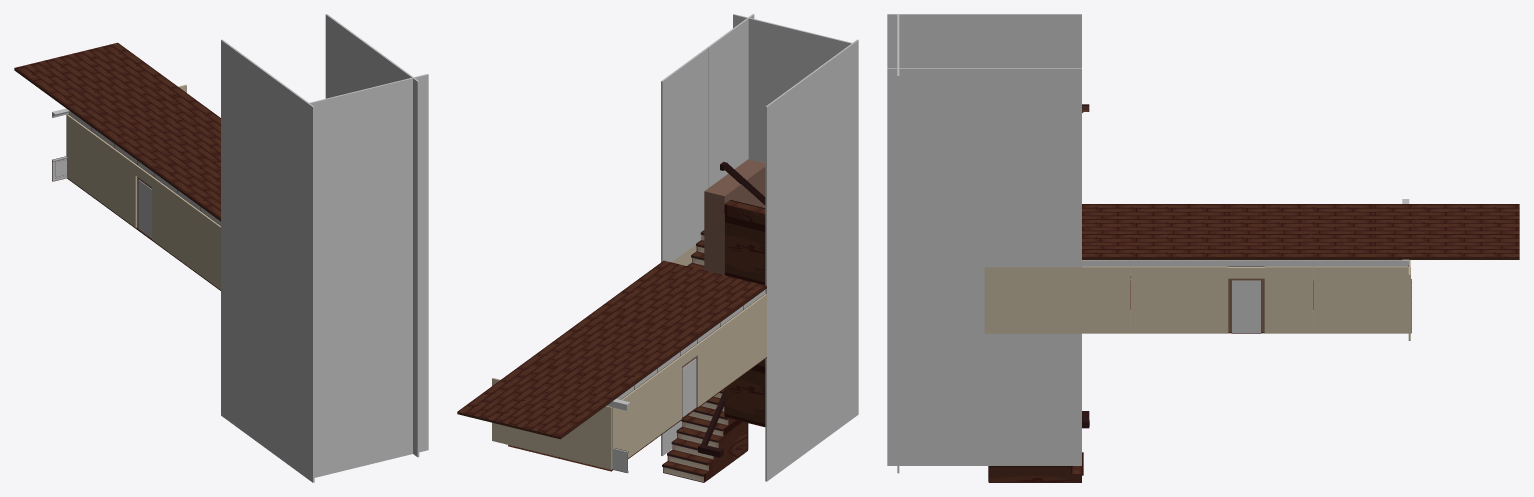
The model's file is HotelRoomHall.fbx.
The picture shows the model from 3 angles, left to right: view 1: azimuth 30°, elevation 25°; view 2: azimuth 150°, elevation 25°; view 3: azimuth 270°, elevation 25°; orthographic projection. The views are drawn at different scales.
Parts seen in each view (by area): view 1: Cube.102, Cube.137, W.064, W.031, W.033, W.035, W.068, W.066, Cube.011, W.063, W.065, W.030 (+49 smaller); view 2: Cube.102, Cube.137, Cube.011, Cube.019, Cube.032, Cube.018, W.064, Cube.017, W.016, W.069, W.051, W.079 (+45 smaller); view 3: Cube.102, Cube.137, Cube.011, W, W.003, W.010, W.045, W.078, W.047, W.080, W.082, W.007 (+27 smaller).
Part boxes in pixels (bbox=[...]): Cube.102: bbox=[14, 42, 186, 120]; Cube.137: bbox=[83, 93, 220, 170]; W.064: bbox=[348, 83, 388, 156]; W.031: bbox=[349, 272, 388, 344]; W.033: bbox=[349, 334, 388, 406]; W.035: bbox=[349, 397, 388, 469]; W.068: bbox=[349, 209, 388, 281]; W.066: bbox=[349, 147, 388, 218]; Cube.011: bbox=[152, 152, 220, 221]; W.063: bbox=[309, 93, 348, 164]; W.065: bbox=[314, 156, 348, 227]; W.030: bbox=[314, 282, 348, 352]; Cube.102: bbox=[457, 361, 629, 439]; Cube.137: bbox=[526, 311, 698, 388]; Cube.011: bbox=[595, 260, 766, 338]; Cube.019: bbox=[662, 389, 748, 482]; Cube.032: bbox=[724, 200, 765, 284]; Cube.018: bbox=[704, 159, 765, 275]; W.064: bbox=[773, 24, 812, 90]; Cube.017: bbox=[724, 359, 765, 426]; W.016: bbox=[571, 406, 612, 469]; W.069: bbox=[733, 14, 773, 86]; W.051: bbox=[765, 90, 789, 169]; W.079: bbox=[661, 64, 685, 143]; Cube.102: bbox=[1373, 204, 1519, 259]; Cube.137: bbox=[1227, 204, 1373, 259]; Cube.011: bbox=[1082, 204, 1227, 259]; W: bbox=[1179, 266, 1228, 333]; W.003: bbox=[1313, 266, 1362, 333]; W.010: bbox=[1264, 266, 1313, 333]; W.045: bbox=[984, 267, 1033, 333]; W.078: bbox=[984, 68, 1033, 134]; W.047: bbox=[984, 333, 1033, 399]; W.080: bbox=[984, 135, 1033, 201]; W.082: bbox=[984, 201, 1033, 267]; W.007: bbox=[1131, 266, 1179, 333].
Bounding box in the file's own units: 1355 × 3761 × 5193.
